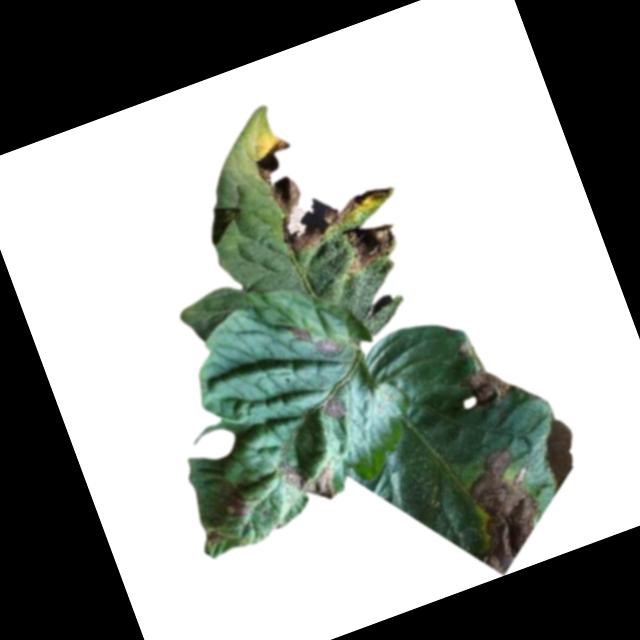Early_blight: (241, 98, 402, 257), (449, 440, 558, 580), (332, 213, 405, 278), (279, 447, 344, 512), (457, 353, 518, 413), (288, 311, 347, 367), (215, 487, 255, 526), (319, 389, 349, 422), (203, 526, 224, 546)
